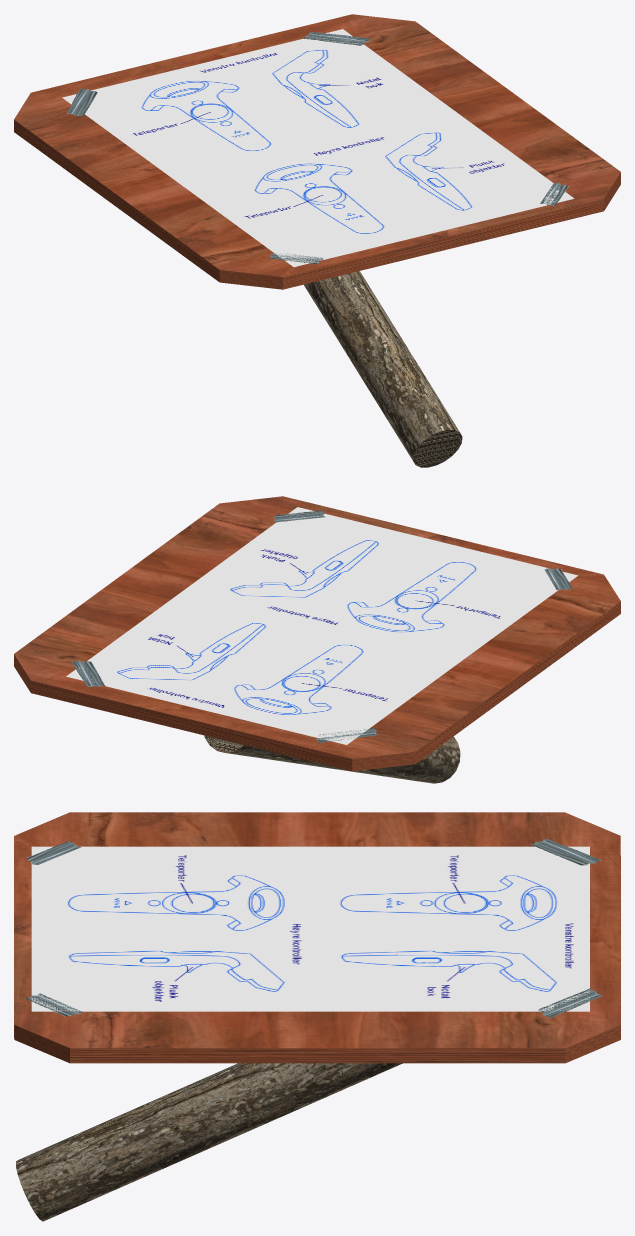
File: Skilt_kontrollers.FBX
3 views of the same model, one above another, from view 1: azimuth 30°, elevation 25°; view 2: azimuth 150°, elevation 25°; view 3: azimuth 270°, elevation 25° (orthographic). The views are drawn at different scales.
Parts seen in each view (by area): view 1: Plane001, Box002, Cylinder001; view 2: Plane001, Box002, Cylinder001, Plane005; view 3: Plane001, Box002, Cylinder001, Plane002, Plane005.
Boxes of the visible parts, x1,y1,x2,y2 form: Plane001: (62,29,574,266); Box002: (14,14,620,289); Cylinder001: (304,271,462,467); Plane001: (66,507,577,744); Box002: (14,496,620,771); Cylinder001: (204,735,460,783); Plane005: (71,660,105,687); Plane001: (31,846,589,1011); Box002: (14,812,620,1063); Cylinder001: (16,1063,402,1221); Plane002: (529,839,601,865); Plane005: (538,988,602,1018).
Size of the model in its own units: 100 by 56.73 by 109.
Materials: 4 (4 with a texture image).
